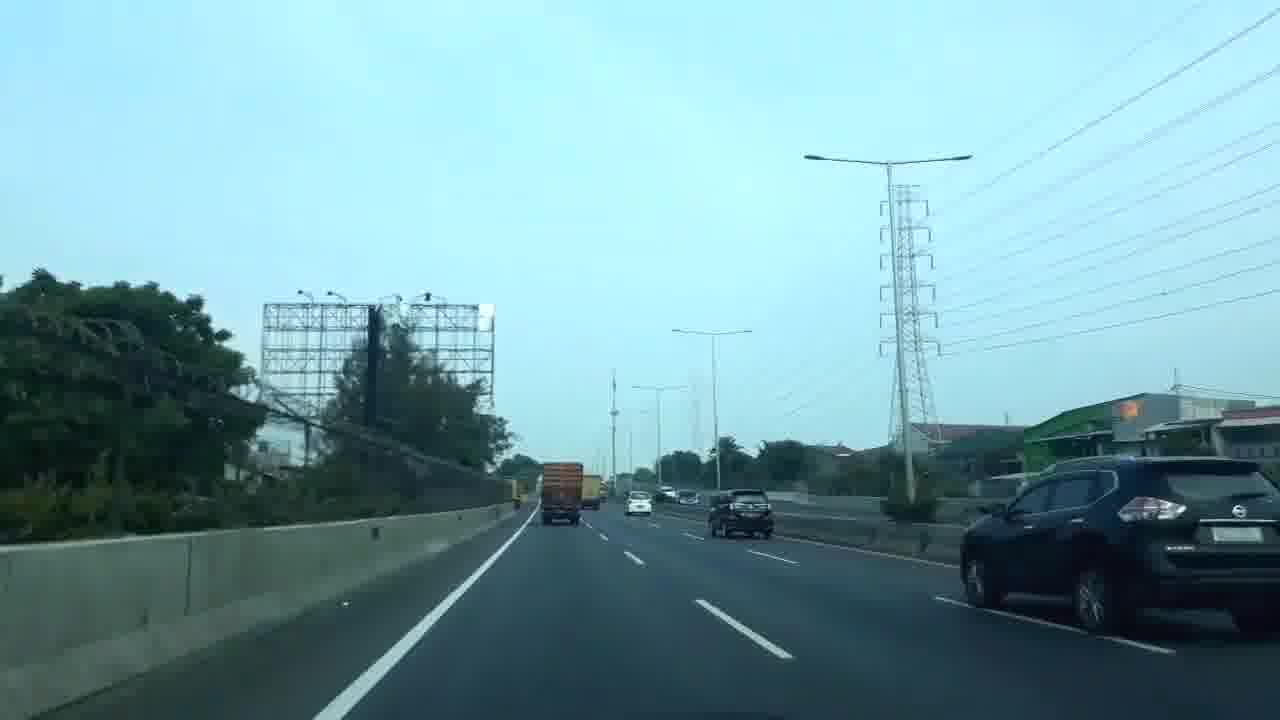plate_positive: (1210, 527, 1264, 544)
